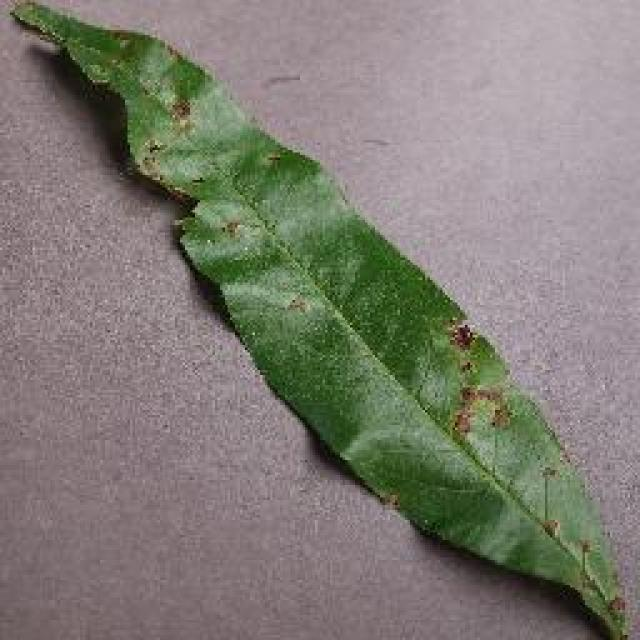Peach_Bacterial_Spot: (142, 79, 556, 458)
